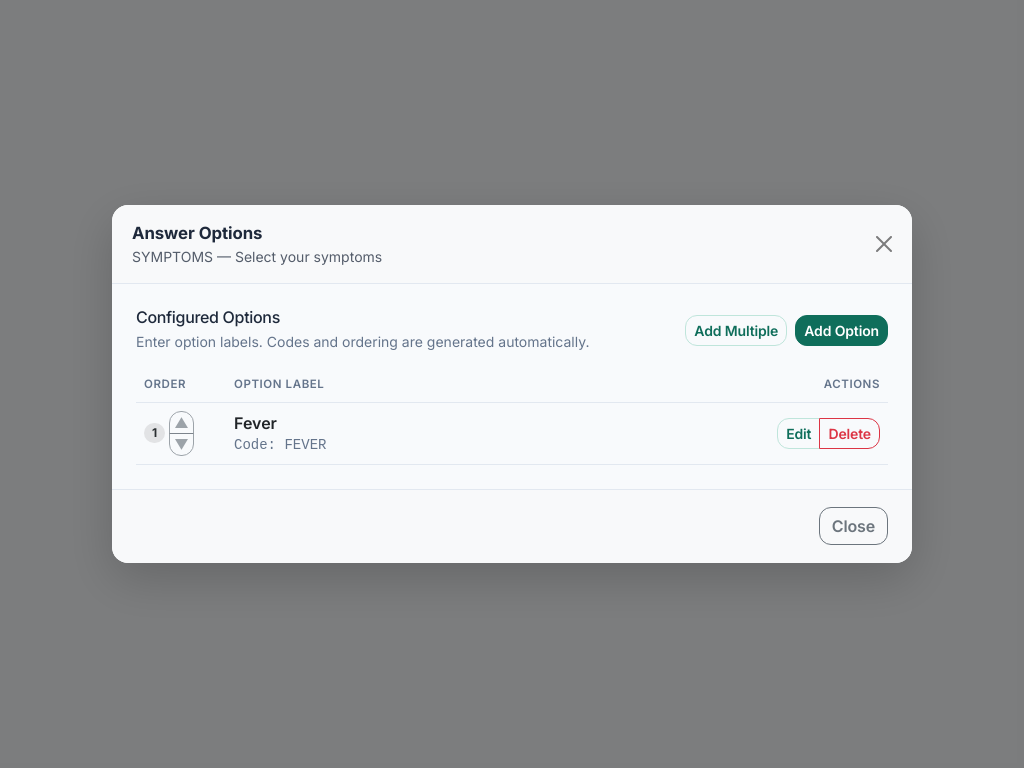
it: AnswerOptionsModal › supports confirmed option deletion
Expected: the text "Fever" is shown, [234,413,277,433]
Click the button with aria-label "Delete option FEVER".
click(850, 433)  # box [819,418,880,449]
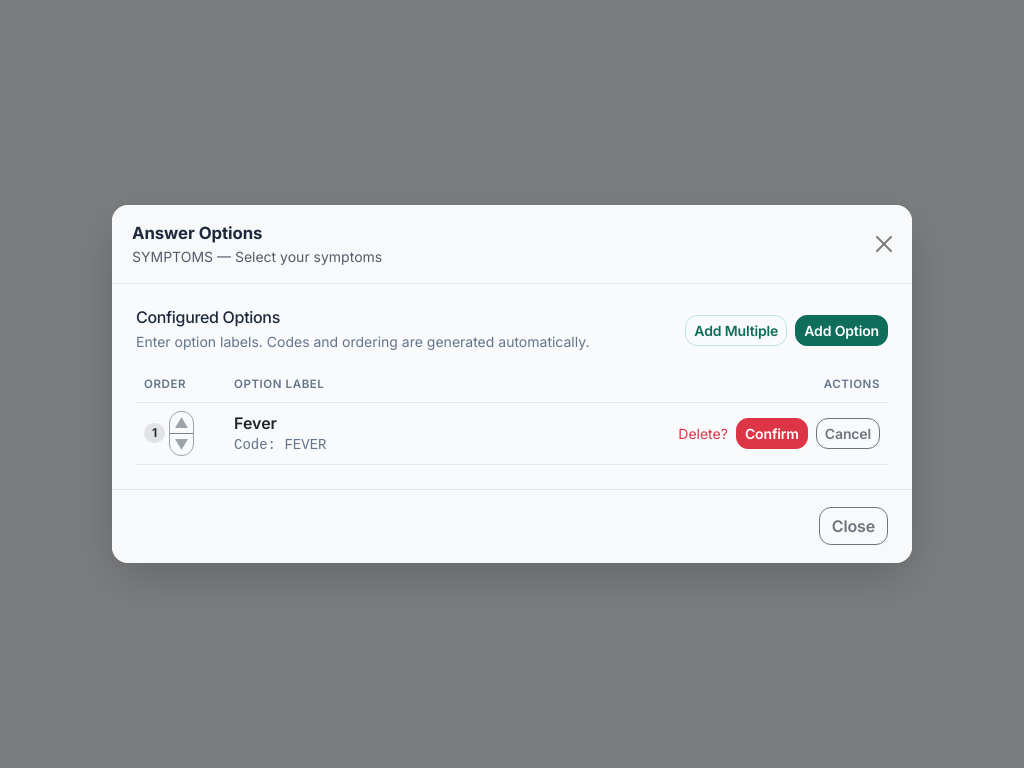
Result: the text "Delete?" is shown at [678,423,728,444]
Click the button "Confirm".
click(772, 433)  # box [736,418,808,449]
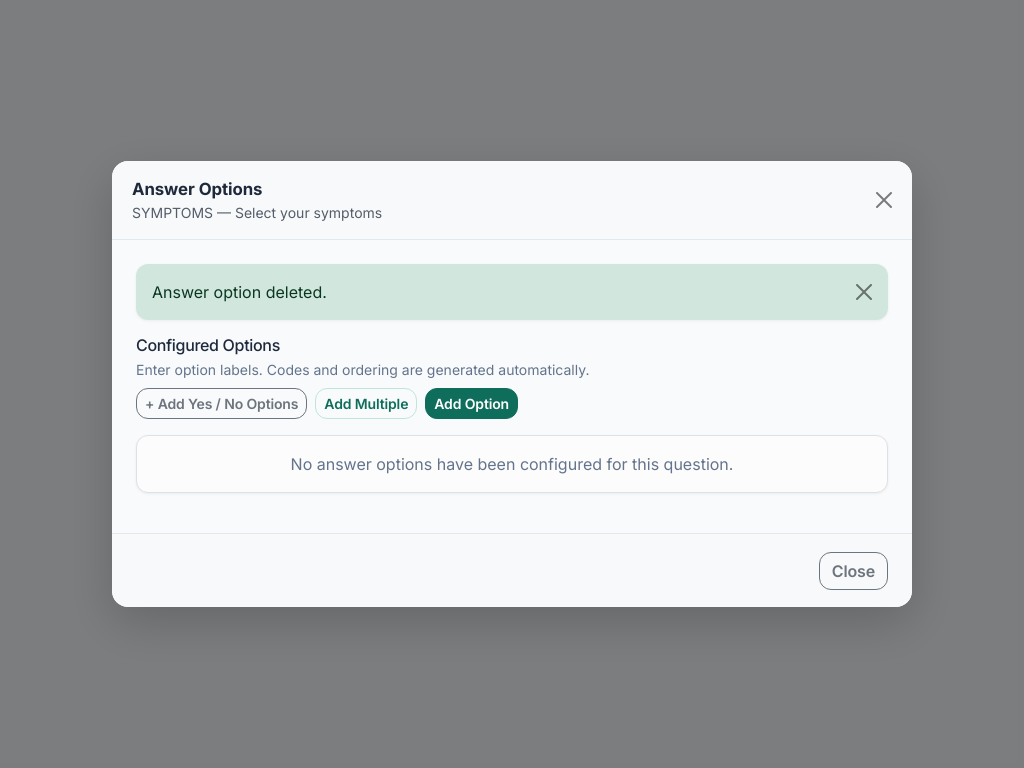
Result: the text "Answer option deleted." is shown at [136,264,888,320]
